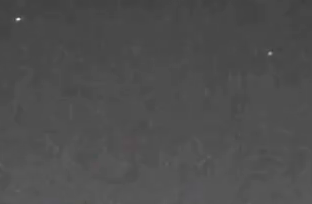Target: (17, 18, 271, 56)
